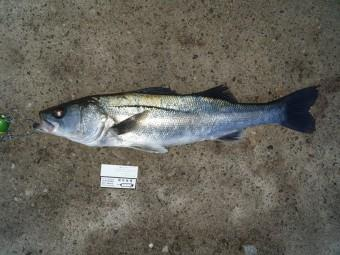fish: (33, 86, 318, 152)
